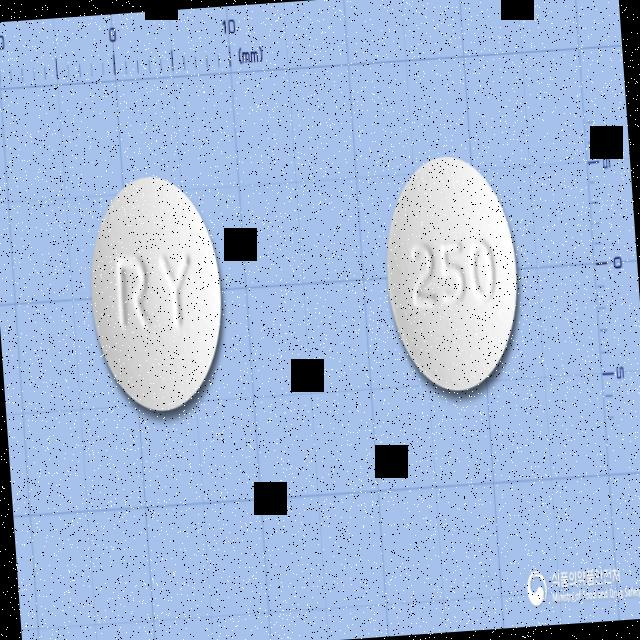Cipurocin: (375, 143, 531, 410), (78, 164, 234, 424)
